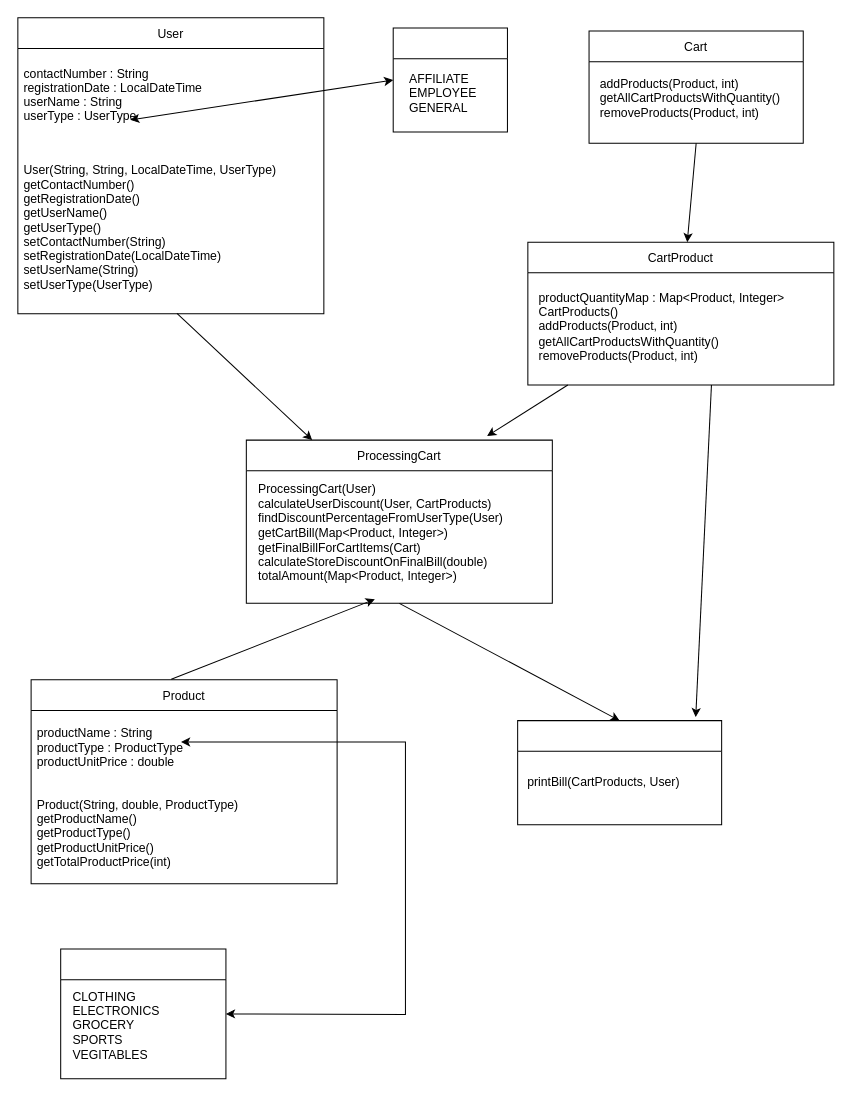
Image size: 852x1097. Some labels were removed from this diagram. Each missing label, with the box of its shape:
PrintFinalBill: (517, 720, 722, 825)
ProductType: (60, 948, 226, 1079)
UserType: (392, 27, 507, 132)
